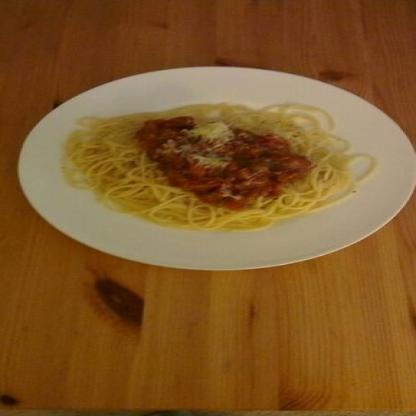pasta: (55, 104, 357, 231)
